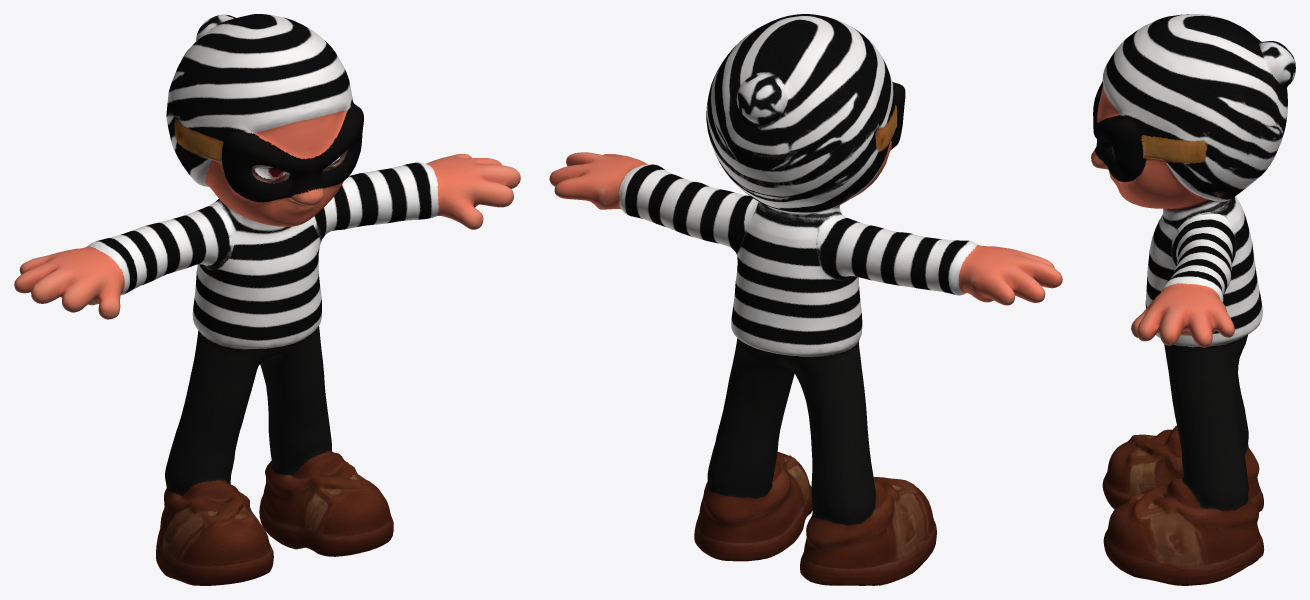
File: thief_enemy_01_00001.glb
3 views of the same model, side by side, from view 1: azimuth 30°, elevation 25°; view 2: azimuth 150°, elevation 25°; view 3: azimuth 270°, elevation 25° (orthographic). The views are drawn at different scales.
Size of the model in its own units: 0.8503 by 0.873 by 0.314.
Materials: 1 (1 with a texture image).
